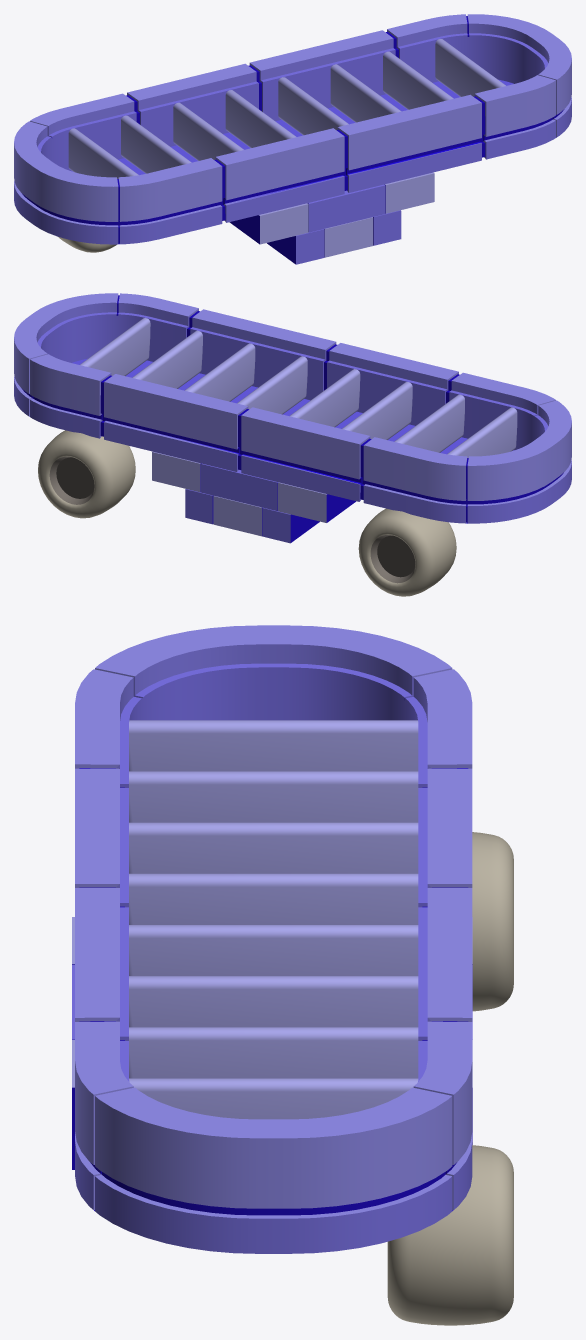
The model's file is PurpleSlotTray.fbx.
The picture shows the model from 3 angles, top to bottom: view 1: azimuth 30°, elevation 25°; view 2: azimuth 150°, elevation 25°; view 3: azimuth 270°, elevation 25°; orthographic projection. The views are drawn at different scales.
Visible parts, largest first — view 1: PurpleSlotTray, Wheels; view 2: PurpleSlotTray, Wheels; view 3: PurpleSlotTray, Wheels.
Part boxes in pixels (x1,y1,x2,y2): PurpleSlotTray: (14,14,571,264); Wheels: (58,237,117,252); PurpleSlotTray: (14,293,571,543); Wheels: (38,430,456,596); PurpleSlotTray: (72,625,472,1253); Wheels: (387,832,513,1325).
Size of the model in its own units: 1068 by 269 by 389.
Materials: 1 (1 with a texture image).
